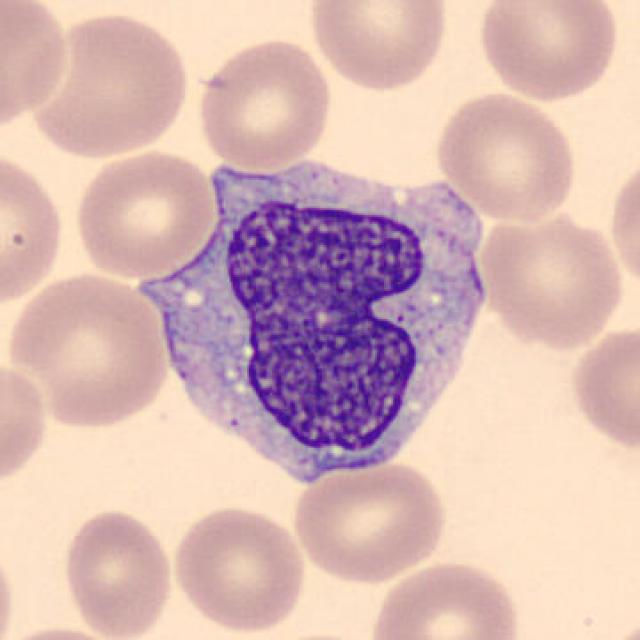Monocyte: (130, 152, 501, 499)
RBC: (2, 268, 172, 432), (21, 6, 192, 160), (474, 206, 626, 351), (288, 457, 452, 585), (431, 88, 582, 226), (192, 34, 336, 171), (71, 147, 219, 280), (169, 502, 309, 636), (59, 504, 176, 640), (473, 0, 622, 104), (304, 0, 452, 95), (366, 557, 526, 640), (0, 147, 68, 310), (566, 321, 638, 457), (0, 0, 73, 132), (0, 358, 52, 494), (604, 152, 640, 294), (0, 622, 128, 640), (0, 536, 20, 640)
